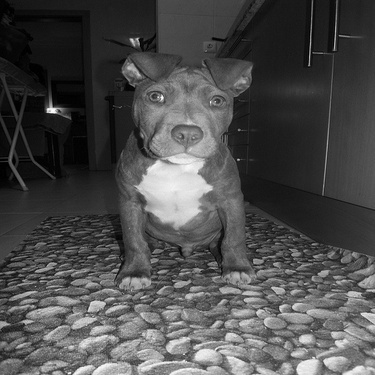dog: (105, 44, 271, 288)
